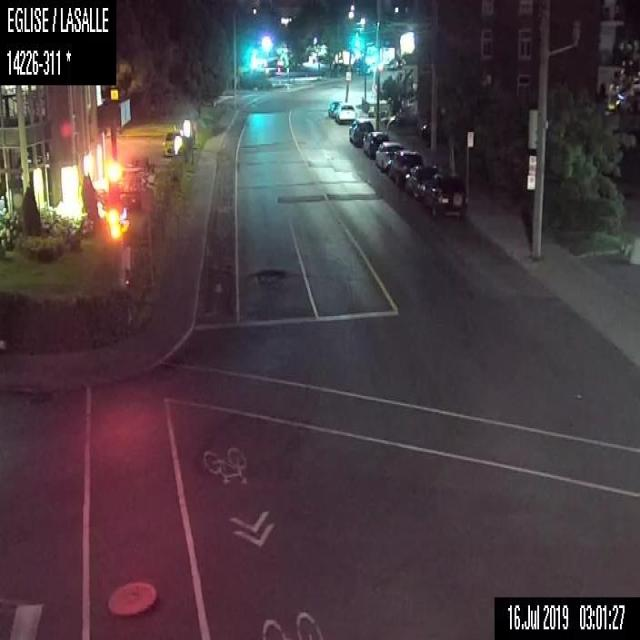vehicle: (419, 172, 465, 214), (386, 148, 422, 189), (405, 163, 440, 200), (375, 139, 402, 174), (362, 130, 389, 160), (348, 116, 374, 147), (162, 124, 183, 157), (334, 100, 356, 122), (327, 100, 342, 117)
